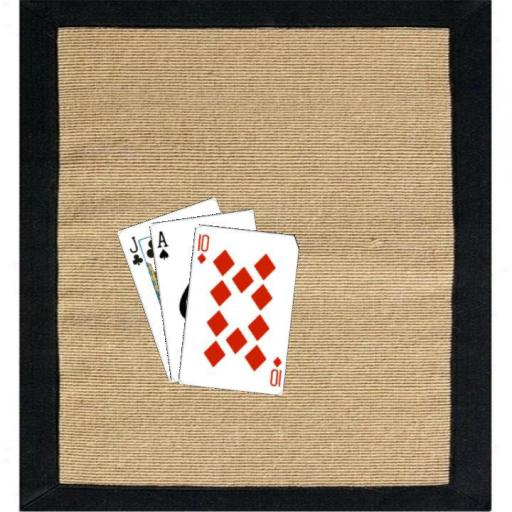10D: (266, 353, 283, 388), (194, 231, 211, 265)
AS: (154, 228, 169, 261)
JC: (126, 233, 144, 267)
